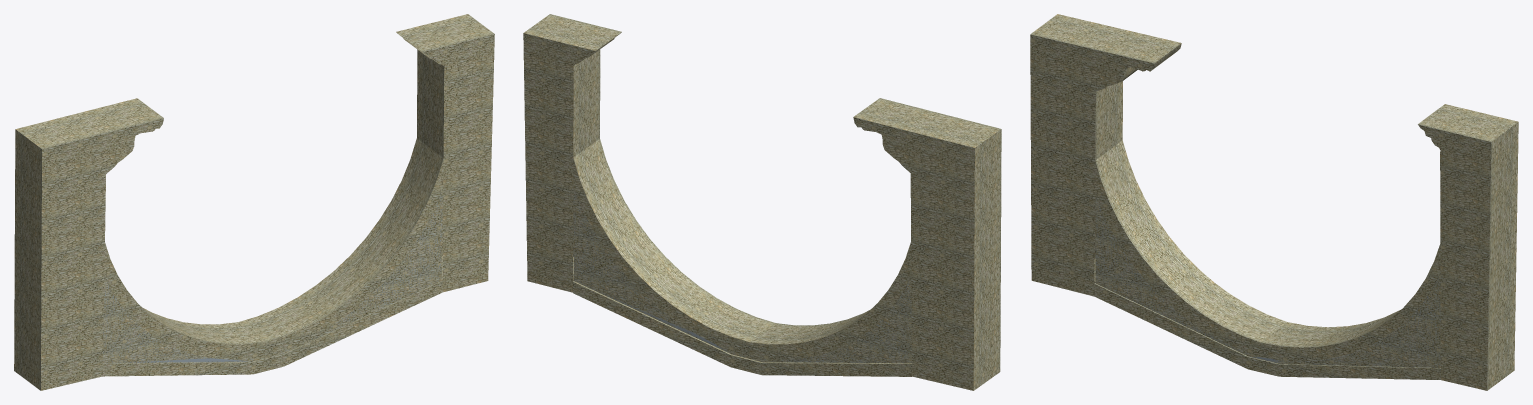
The model's file is bridge 1.fbx.
3 renders of one model, left to right at view 1: azimuth 30°, elevation 25°; view 2: azimuth 150°, elevation 25°; view 3: azimuth 330°, elevation 25°, orthographic. The views are drawn at different scales.
Parts seen in each view (by area): view 1: desdna_strana_mosta1, ljeva_strana_mosta1, luk1, Component_1_1, gornji_svod_1; view 2: desdna_strana_mosta1, ljeva_strana_mosta1, luk1, Component_1_1, gornji_svod_2; view 3: desdna_strana_mosta1, ljeva_strana_mosta1, luk1, Component_1_1, gornji_svod_1.
Part boxes in pixels (x1,y1,x2,y2): desdna_strana_mosta1: [14, 98, 163, 390]; ljeva_strana_mosta1: [396, 14, 494, 292]; luk1: [104, 138, 443, 359]; Component_1_1: [103, 189, 442, 363]; gornji_svod_1: [102, 281, 442, 376]; desdna_strana_mosta1: [853, 98, 1001, 390]; ljeva_strana_mosta1: [523, 14, 621, 292]; luk1: [573, 139, 911, 359]; Component_1_1: [573, 189, 911, 363]; gornji_svod_2: [573, 281, 911, 376]; desdna_strana_mosta1: [1030, 14, 1181, 296]; ljeva_strana_mosta1: [1418, 104, 1518, 390]; luk1: [1095, 140, 1440, 361]; Component_1_1: [1095, 196, 1440, 367]; gornji_svod_1: [1094, 283, 1440, 379].
Bounding box in the file's own units: 3881 × 2321 × 418.
